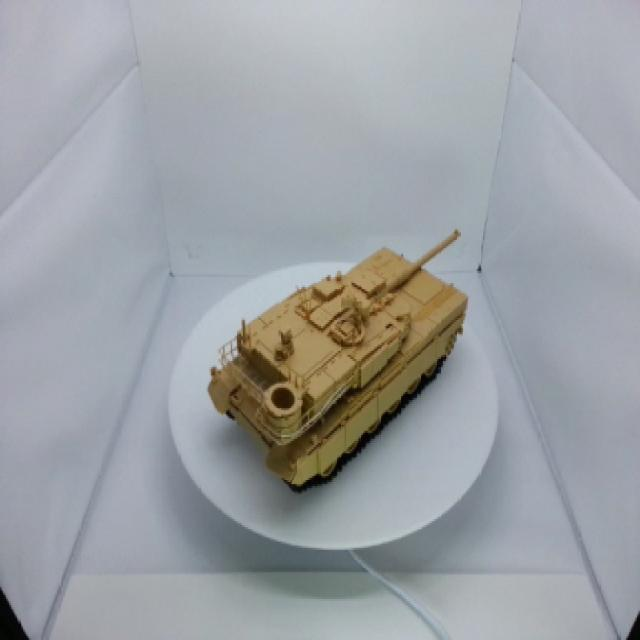korea tank: (200, 199, 497, 505)
